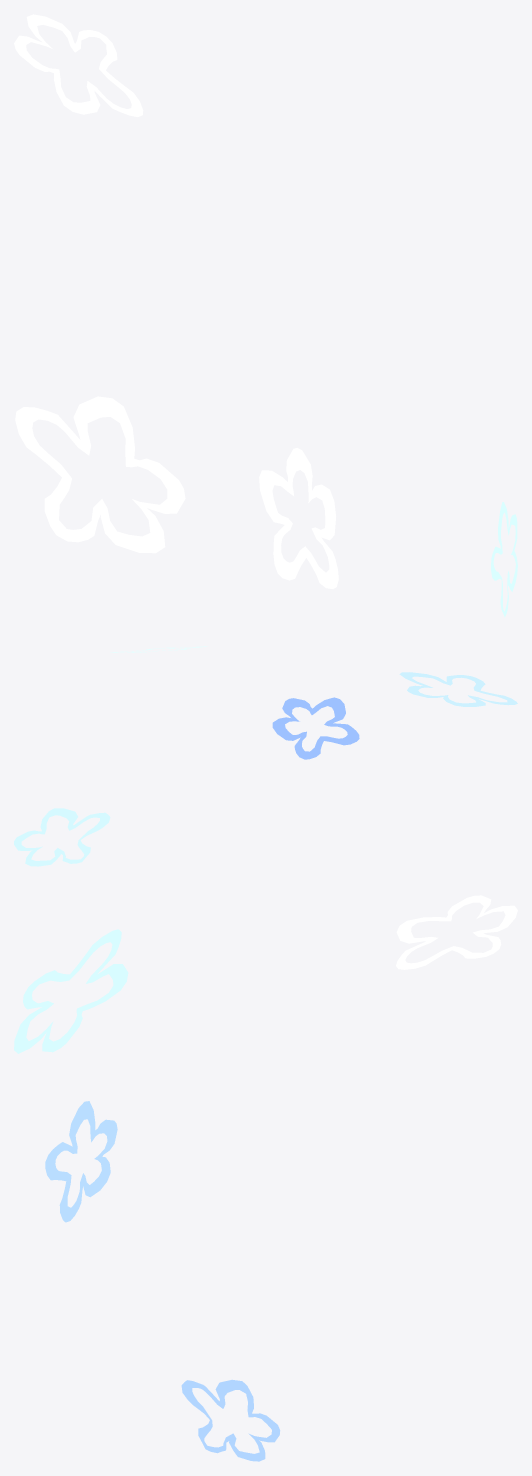
Rendered from object_36.002_lev3.glb.
The picture shows the model from 3 angles, top to bottom: view 1: azimuth 30°, elevation 25°; view 2: azimuth 150°, elevation 25°; view 3: azimuth 270°, elevation 25°; orthographic projection. The views are drawn at different scales.
Parts seen in each view (by area): view 1: object_36.002_lev3; view 2: object_36.002_lev3; view 3: object_36.002_lev3.
Boxes of the visible parts, left/top/right/bottom form: object_36.002_lev3: left=14, top=14, right=517, bottom=617; object_36.002_lev3: left=14, top=646, right=517, bottom=866; object_36.002_lev3: left=14, top=895, right=517, bottom=1461.
Size of the model in its own units: 1.4 by 1.15 by 1.22.
